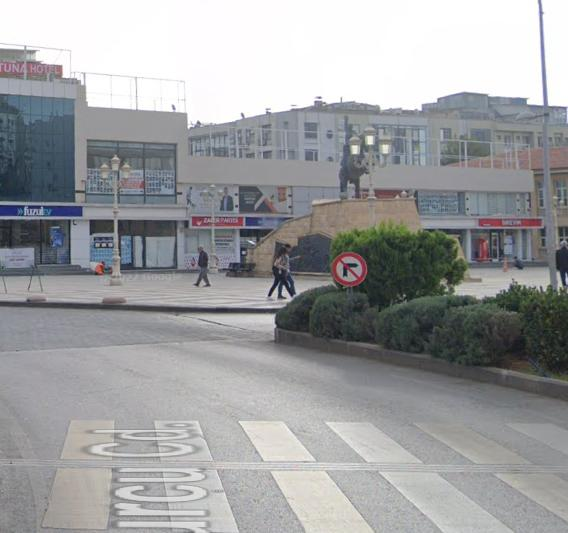rightturnsareforbidden: (332, 251, 367, 290)
